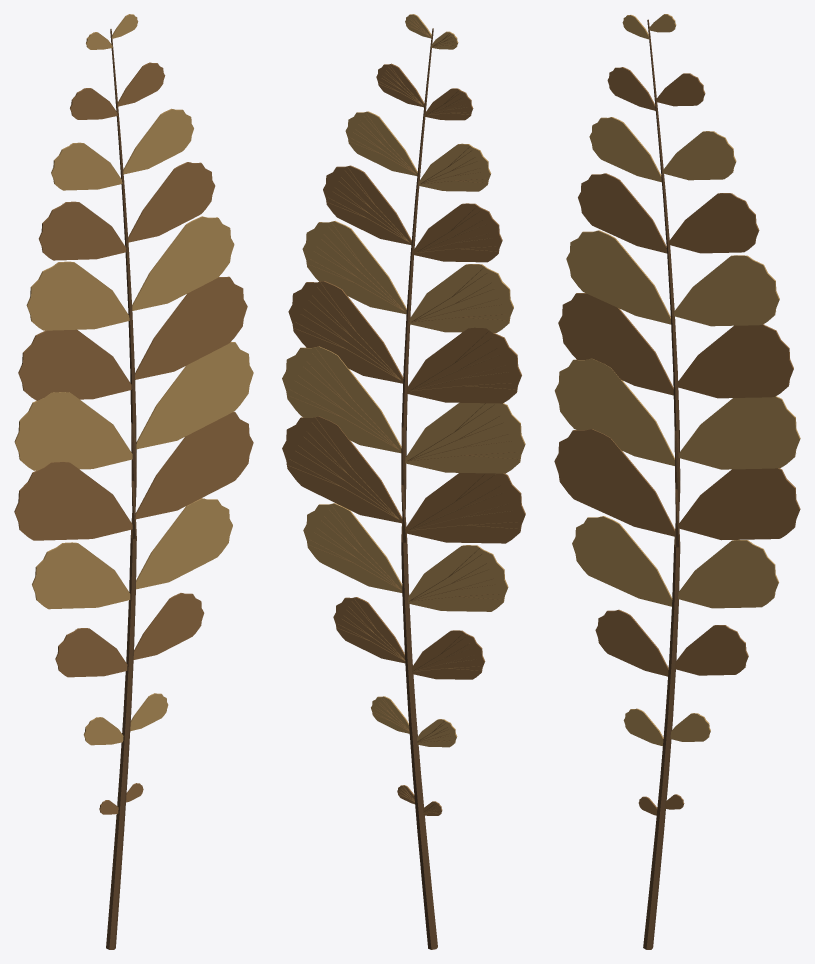
The model's file is noeggerathia.glb.
3 views of the same model, side by side, from view 1: azimuth 30°, elevation 25°; view 2: azimuth 150°, elevation 25°; view 3: azimuth 330°, elevation 25° (orthographic).
Parts seen in each view (by area): view 1: sterile-twelve-pair-wedge-pinnule-frond; view 2: sterile-twelve-pair-wedge-pinnule-frond; view 3: sterile-twelve-pair-wedge-pinnule-frond.
Boxes of the visible parts, x1,y1,x2,y2 form: sterile-twelve-pair-wedge-pinnule-frond: (14,14,253,949); sterile-twelve-pair-wedge-pinnule-frond: (282,14,525,949); sterile-twelve-pair-wedge-pinnule-frond: (554,14,800,949).
Size of the model in its own units: 0.1372 by 0.5056 by 0.00696.
